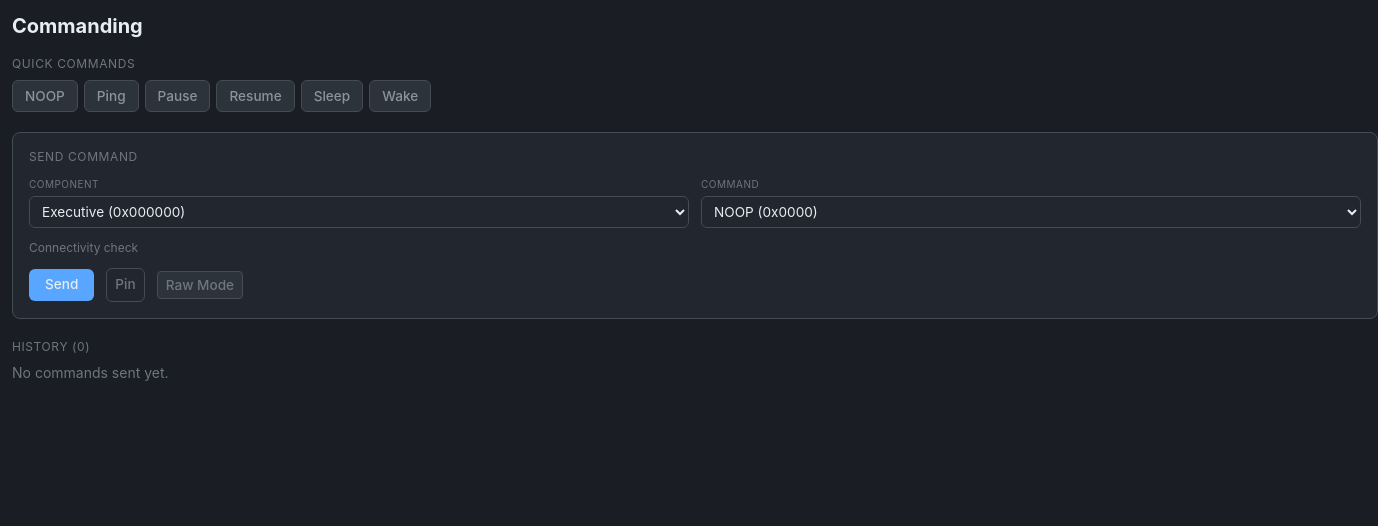
Scenario: command form › shows the refusal and posts nothing for a field it cannot encode
Select "SpecBusDriver #0 (0x00D600)" in the dropdown below "Component" at (359, 212), box [29,196,689,228]
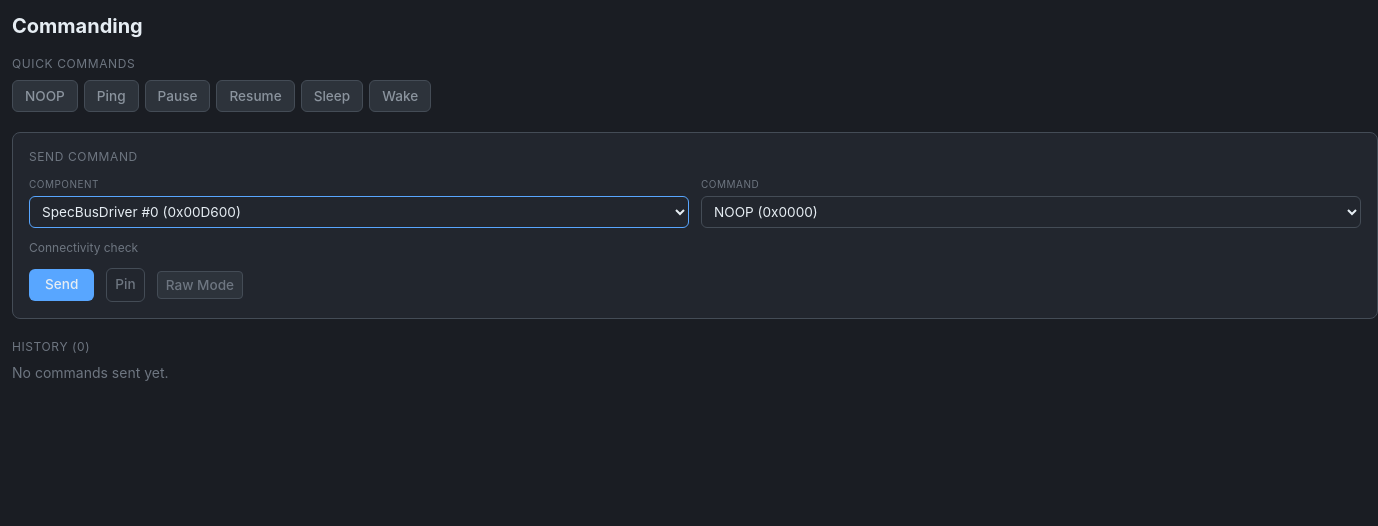
Select "SendFrame (0x0220)" in the 2nd dropdown at (1031, 212), box [701,196,1361,228]
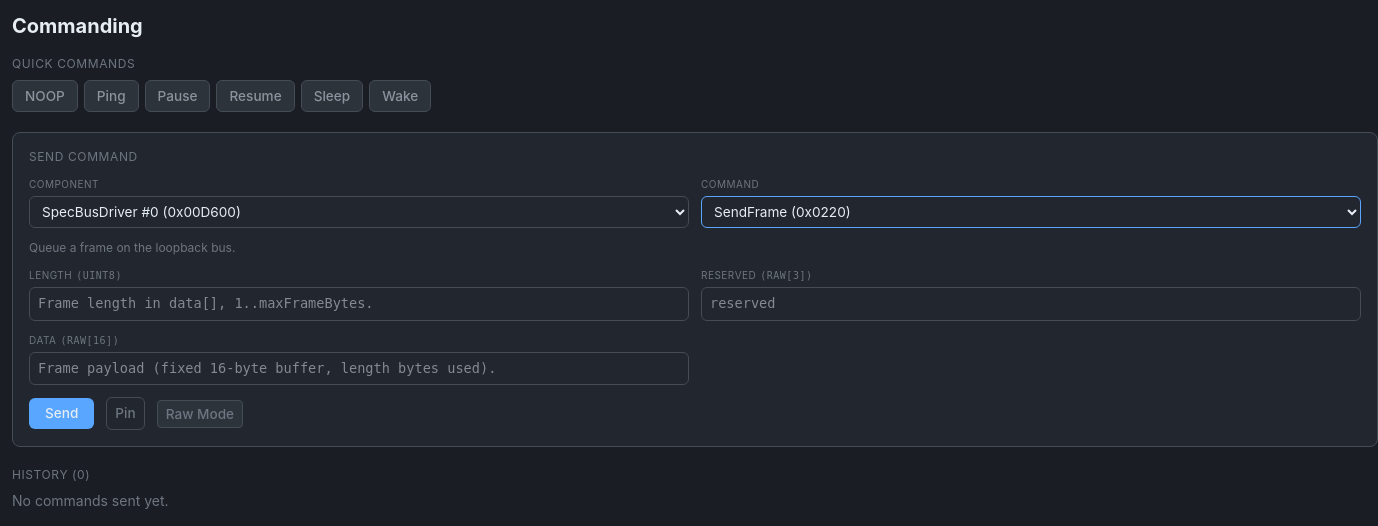
Click the button "Send".
click(62, 414)  # box [29,398,94,429]
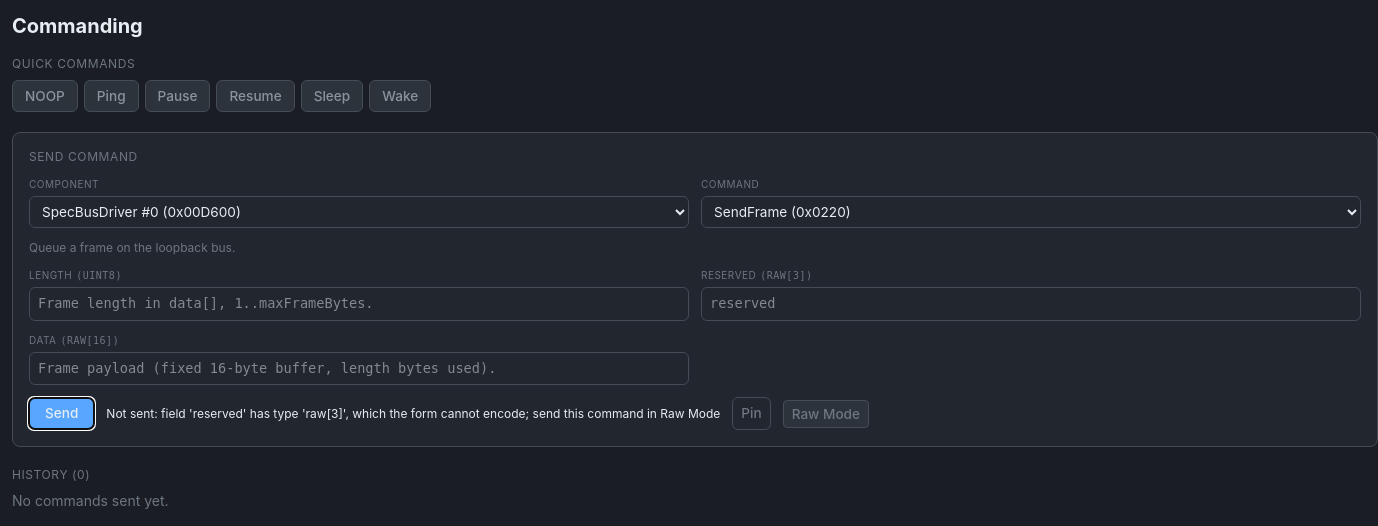
Result: the message shows "Not sent: field 'reserved' has type 'raw[3]'" at [106,406,720,422]
